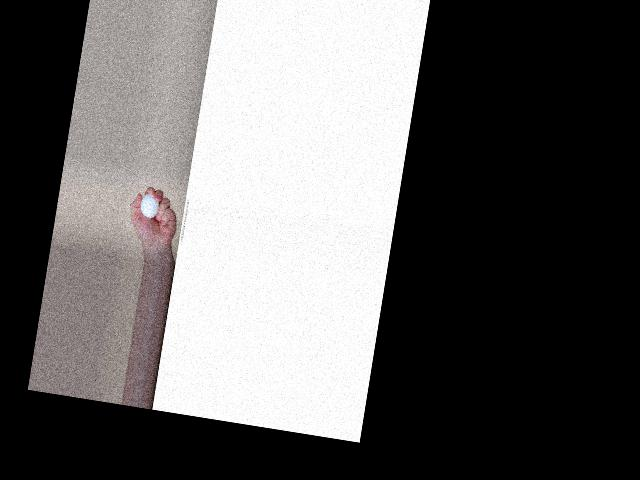egg: (138, 193, 160, 220)
